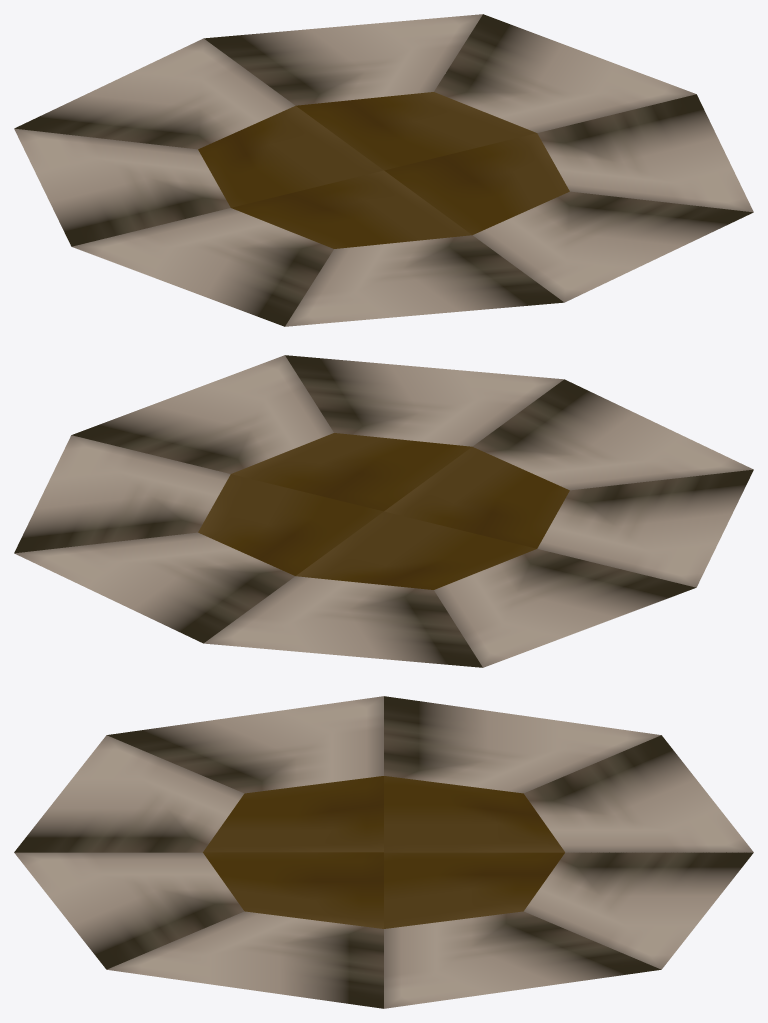
3 renders of one model, top to bottom at view 1: azimuth 30°, elevation 25°; view 2: azimuth 150°, elevation 25°; view 3: azimuth 270°, elevation 25°, orthographic. The views are drawn at different scales.
Parts seen in each view (by area): view 1: T1L1M001_44; view 2: T1L1M001_44; view 3: T1L1M001_44.
Part boxes in pixels (bbox=[...]): T1L1M001_44: bbox=[14, 14, 753, 326]; T1L1M001_44: bbox=[14, 355, 753, 667]; T1L1M001_44: bbox=[14, 696, 753, 1008].
Bounding box in the file's own units: 4 × 0 × 4.
